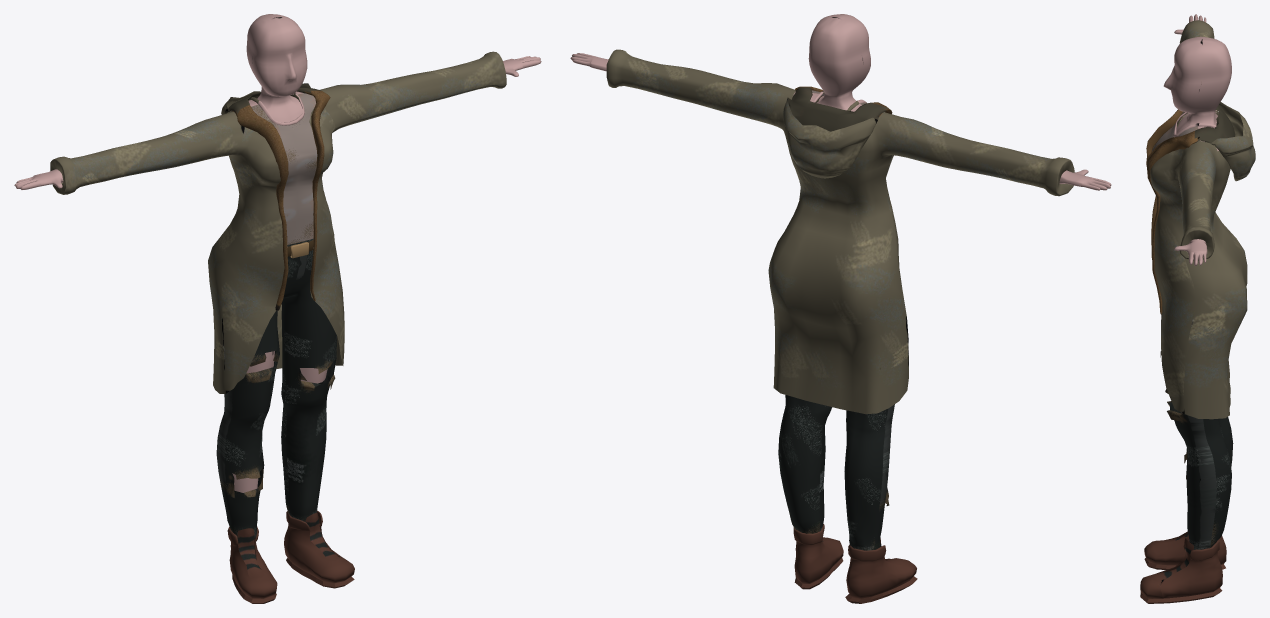
Rendered from Folk-Female-01.fbx.
3 renders of one model, left to right at view 1: azimuth 30°, elevation 25°; view 2: azimuth 150°, elevation 25°; view 3: azimuth 270°, elevation 25°, orthographic. The views are drawn at different scales.
Visible parts, largest first — view 1: folk_female_01; view 2: folk_female_01; view 3: folk_female_01.
Part boxes in pixels (<box>): folk_female_01: <box>14,14,541,603</box>; folk_female_01: <box>570,14,1111,603</box>; folk_female_01: <box>1140,14,1255,603</box>.
Size of the model in its own units: 146 by 147 by 28.45.
